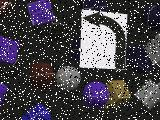Left: (80, 9, 127, 70)
